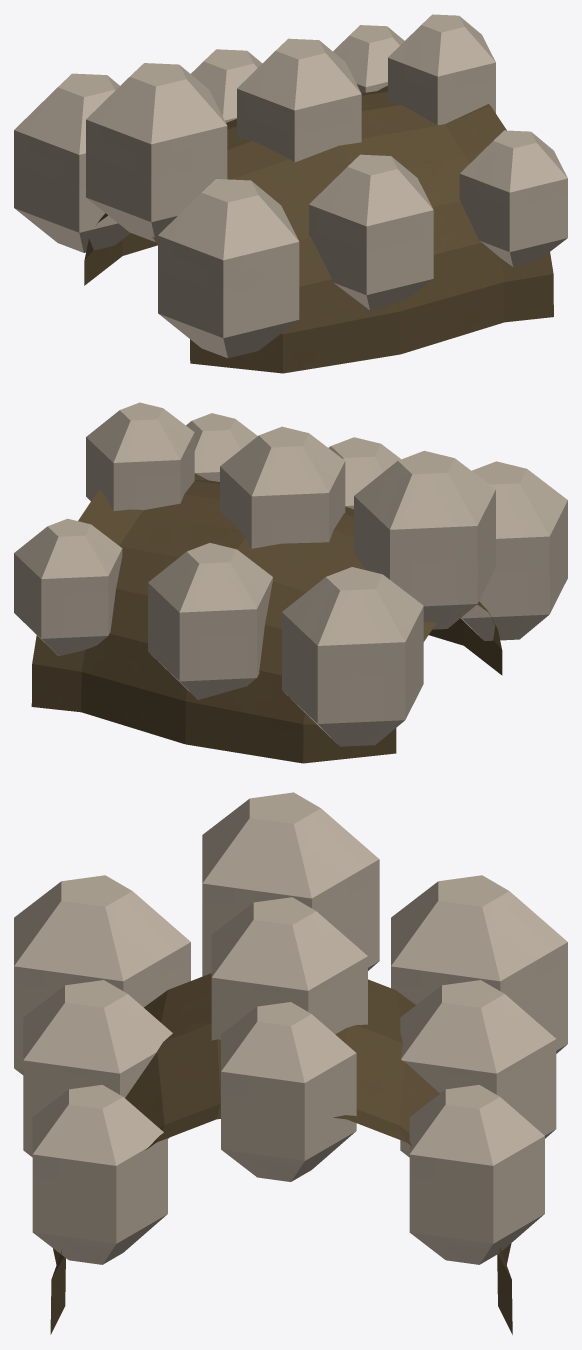
File: acc_shoulder_fur.glb
3 renders of one model, top to bottom at view 1: azimuth 30°, elevation 25°; view 2: azimuth 150°, elevation 25°; view 3: azimuth 270°, elevation 25°, orthographic. The views are drawn at different scales.
Visible parts, largest first — view 1: acc_shoulder_fur; view 2: acc_shoulder_fur; view 3: acc_shoulder_fur.
Part boxes in pixels (x1,y1,x2,y2): acc_shoulder_fur: (14, 14, 567, 373); acc_shoulder_fur: (14, 402, 567, 763); acc_shoulder_fur: (14, 792, 567, 1334).
Size of the model in its own units: 0.1796 by 0.1105 by 0.1674.
Materials: 2 (2 with a texture image).
